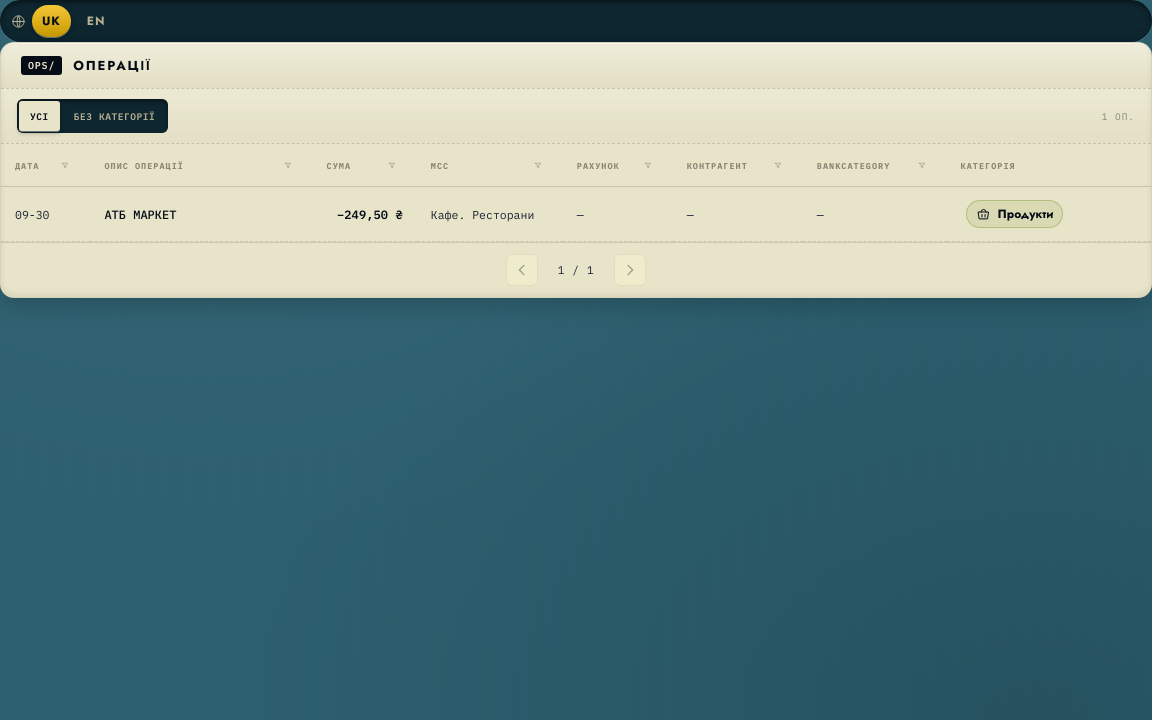
Test: LangToggle flips chrome but not operation content (HC-6) › a chrome string translates while the operation description stays verbatim
Check: the button "Усі" is shown, box 19,101 -> 60,131
Check: the text "All" is not shown
# flip to EN
Step 1. Click the button "EN" → (96, 21), box 77,5 -> 115,37
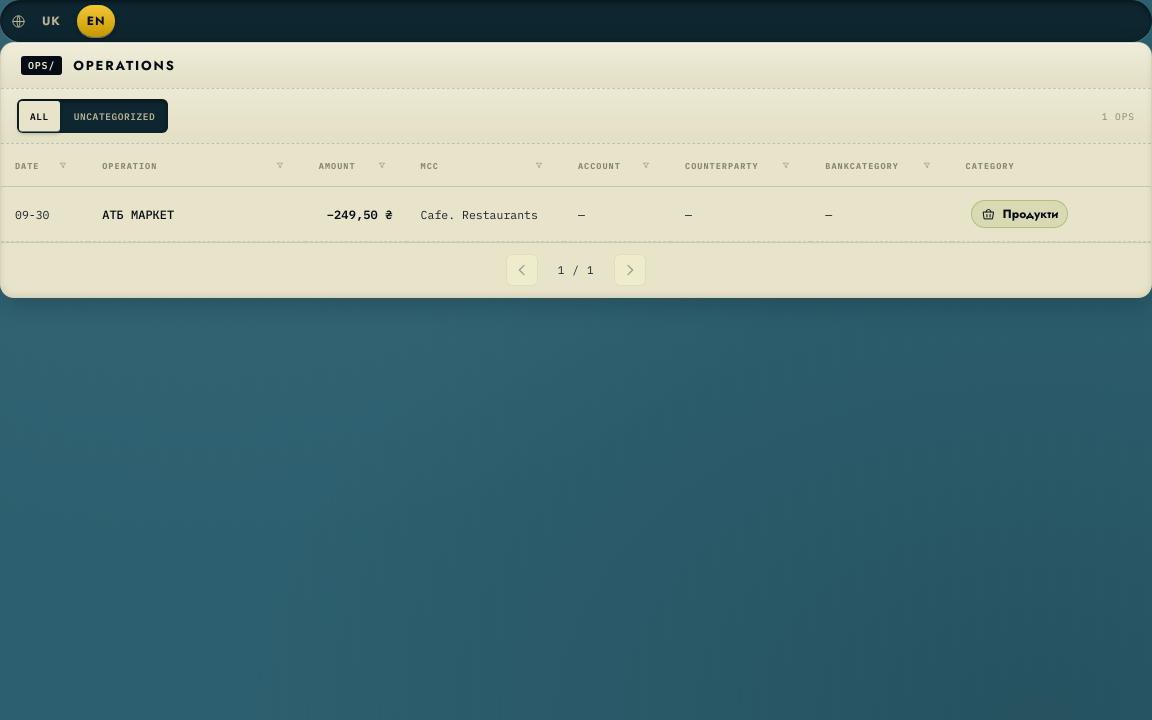
Check: the text "АТБ МАРКЕТ" is shown, box 102,206 -> 174,222
Check: the button "All" is shown, box 19,101 -> 60,131
Check: the button "Усі" is gone
